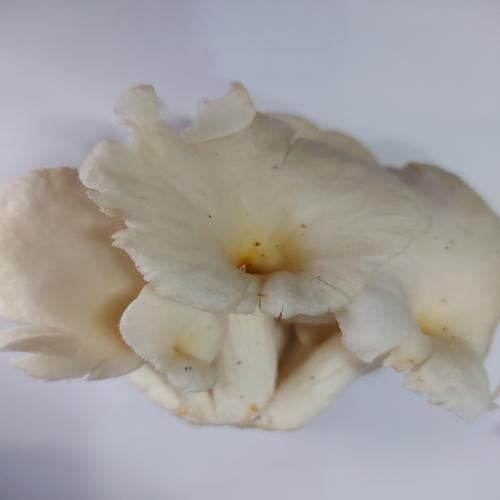Oyster Mushroom: (2, 80, 498, 431)
